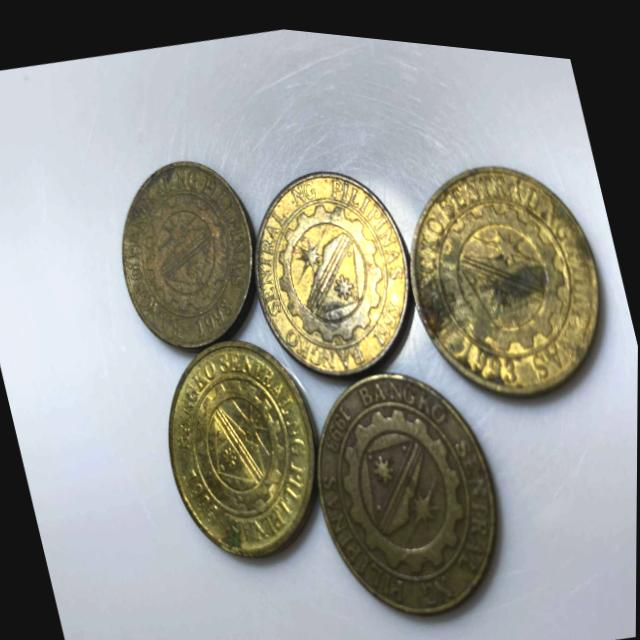25Cent_Old_Back: (396, 137, 620, 418), (300, 347, 513, 622), (234, 146, 422, 383), (149, 335, 331, 564), (99, 141, 275, 353)
